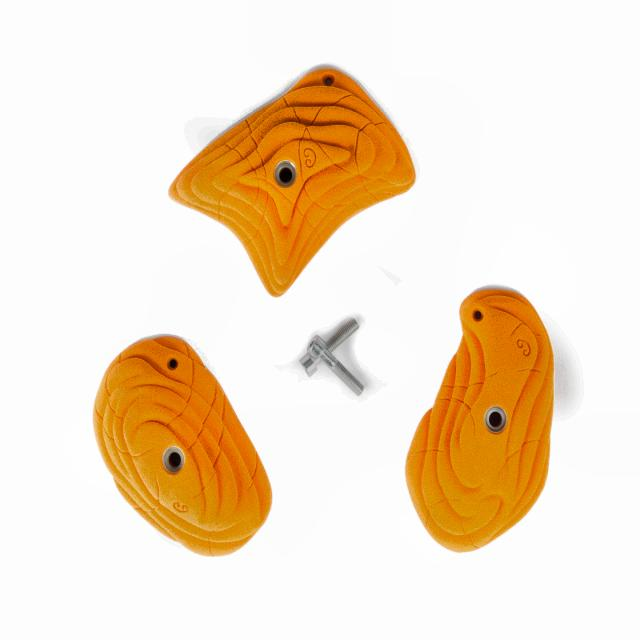Hold: (164, 63, 419, 300), (387, 289, 558, 555), (92, 338, 275, 558)
